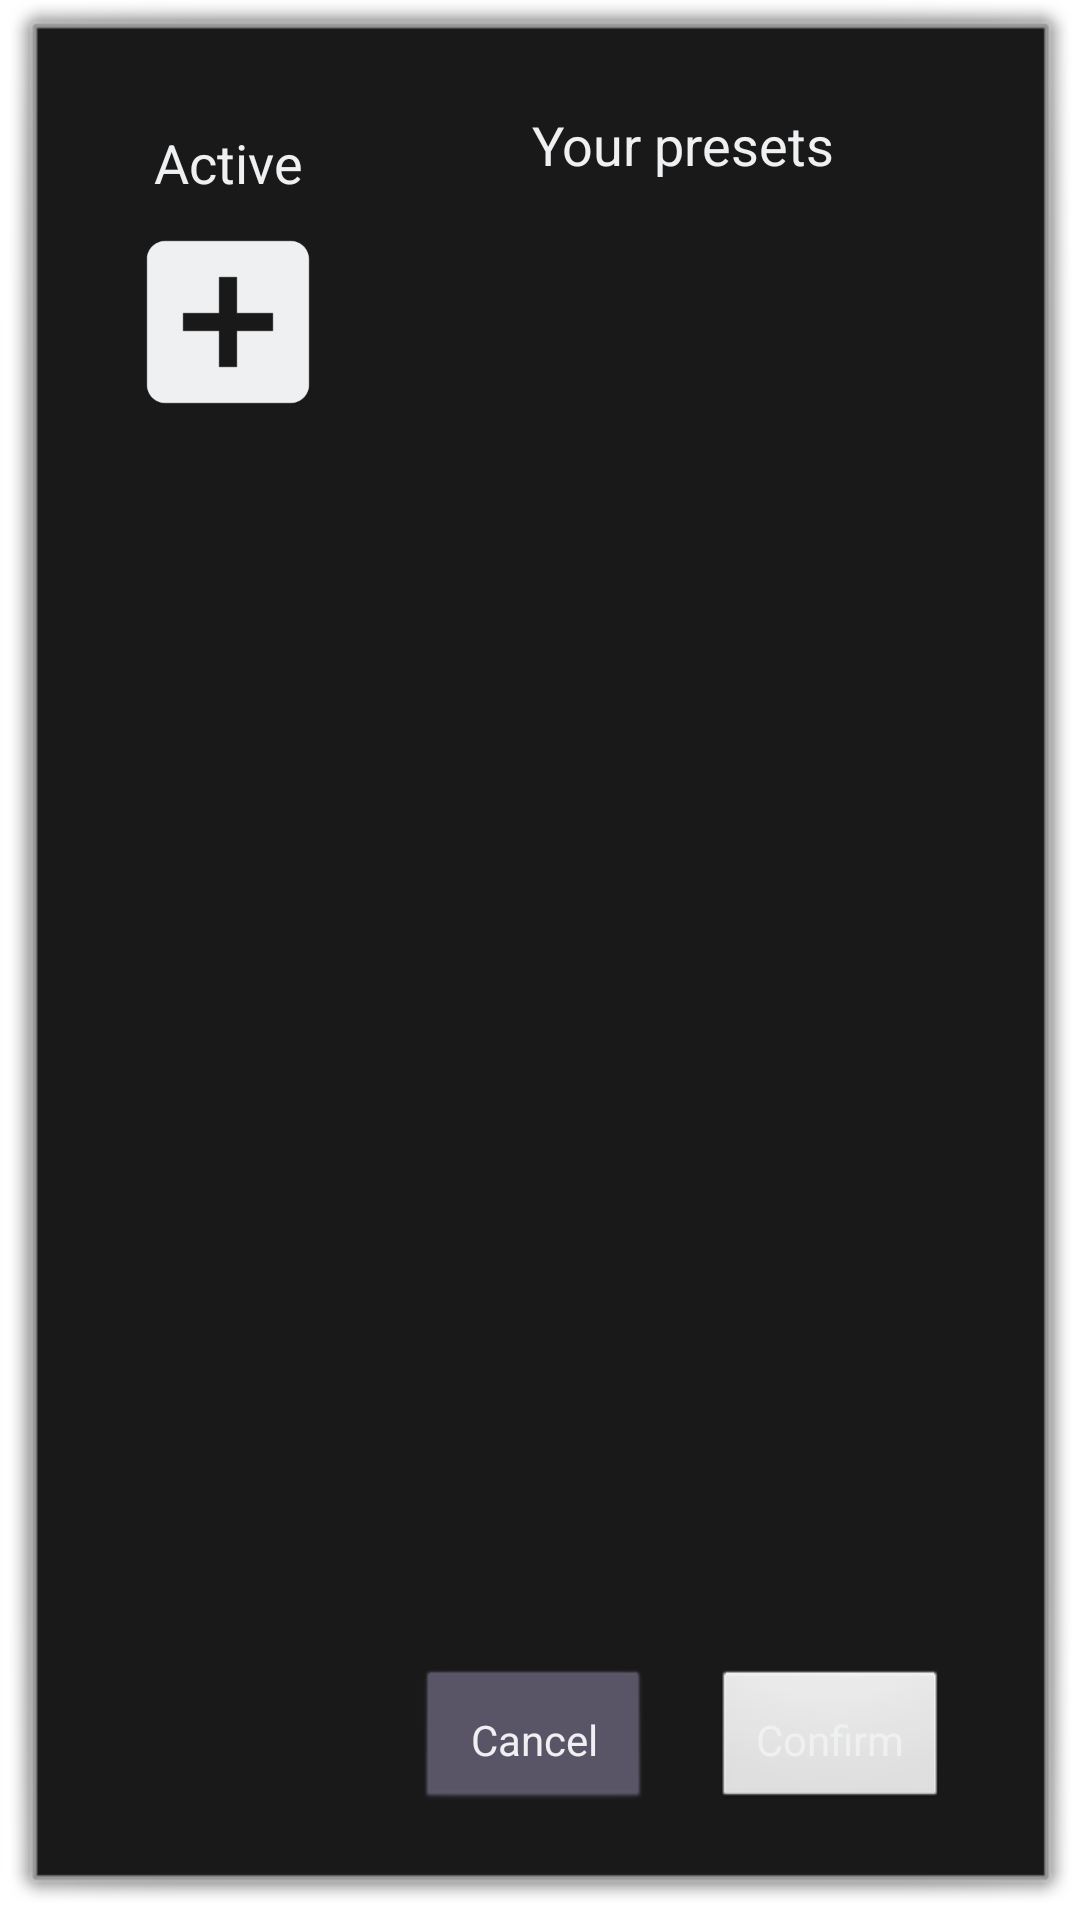

Where to tap for icons on this 1080×1920 app screen, as point (x, y):
Add Widget: point (222, 292)
